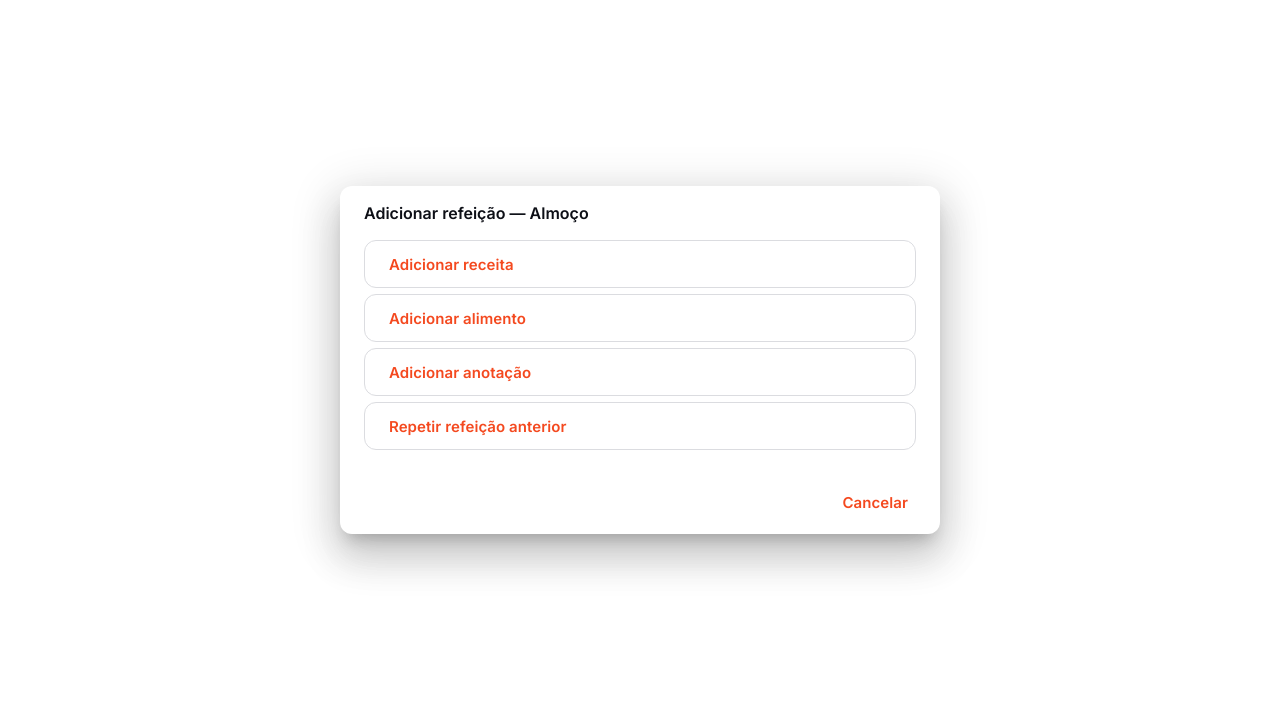
Test: AddMealDialog › filters the recipe picker to favorites only
Click the button "Adicionar receita": (451, 264) 364,240 -> 916,288
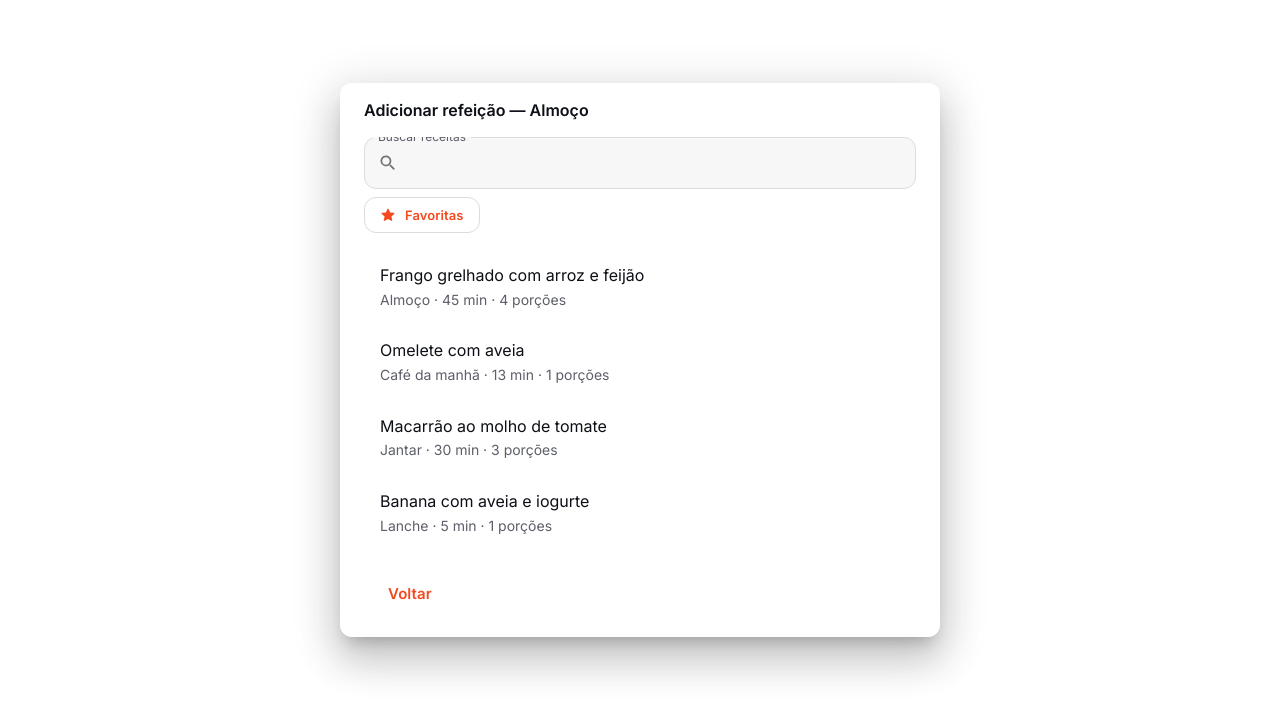
Expected: the text "Omelete com aveia" is shown, 380,340 -> 525,360
Click the button "Favoritas": (422, 215) 364,197 -> 480,233
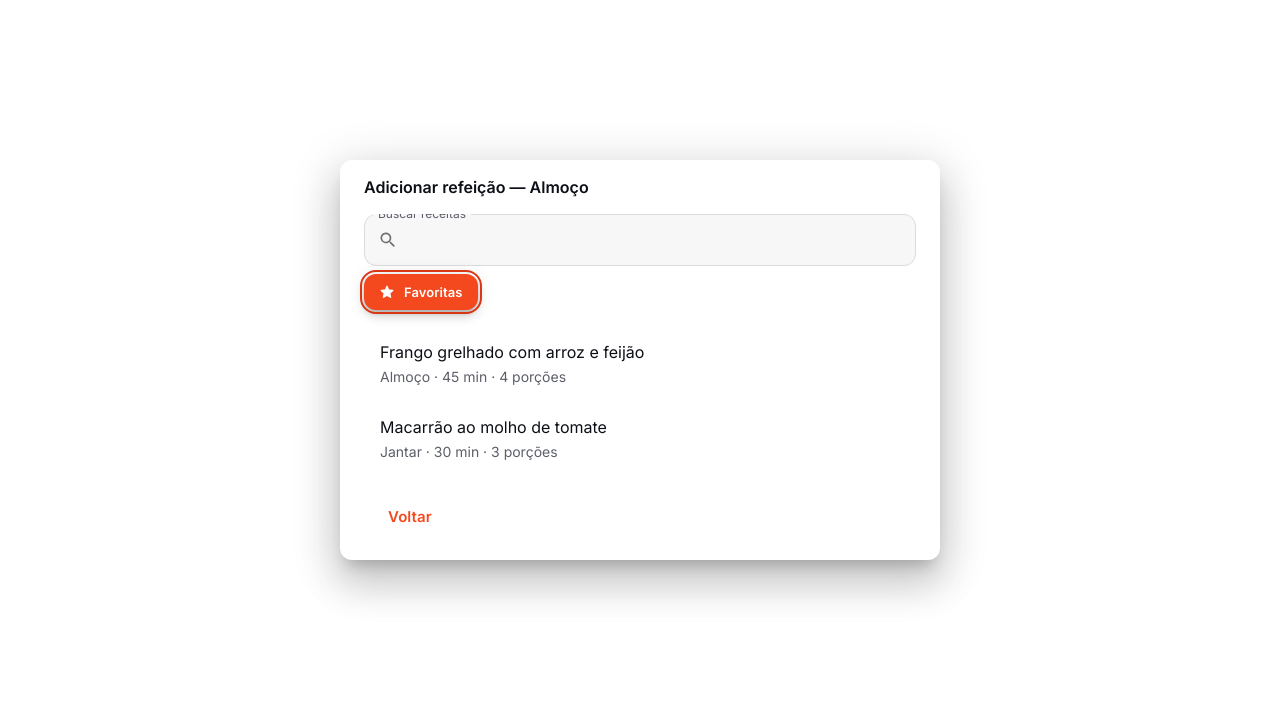
Expected: the text "Frango grelhado com arroz e feijão" is shown, 380,342 -> 644,362
Expected: the button "Omelete com aveia" is gone
